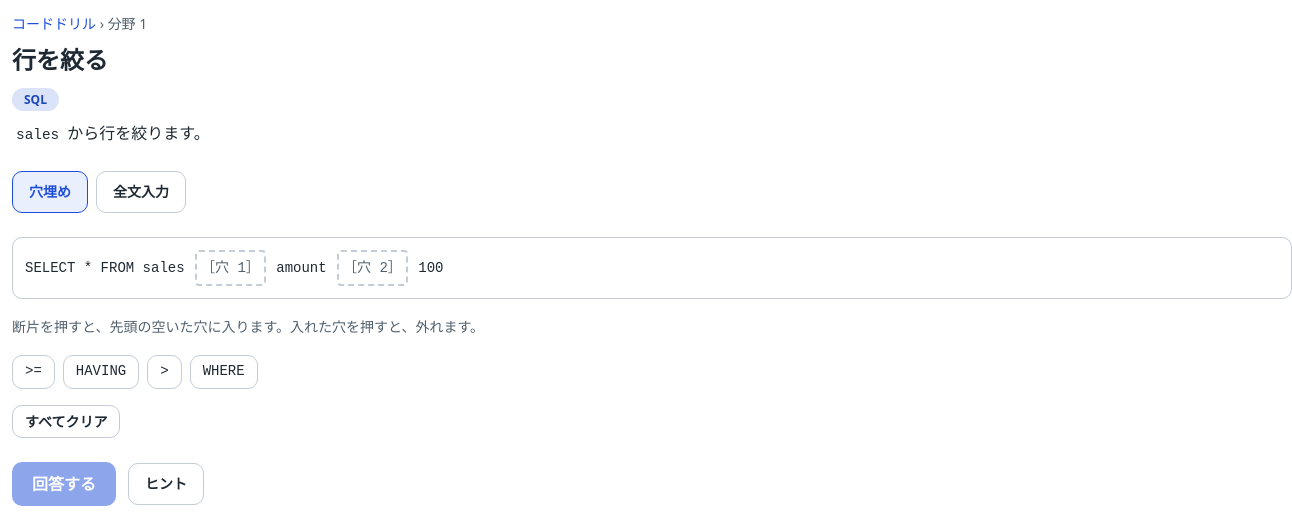
Test: CodeDrillPlayer(穴埋め) › 全部の穴が埋まるまで回答できず_断片は先頭の空いた穴から入る
Expected: the button "回答する" is disabled, [12,462,116,506]
Click the button "HAVING" at (101, 372), box [63,355,139,389]
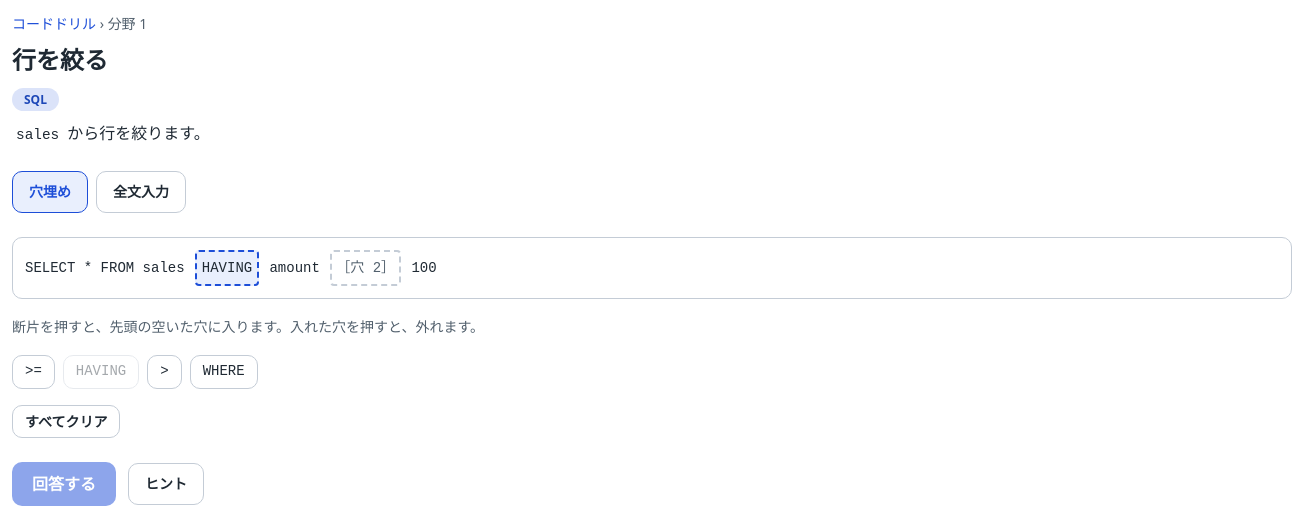
Expected: the button with aria-label "穴 1: HAVING" is shown, [195,250,259,286]
Expected: the 2nd button "HAVING" is disabled, [63,355,139,389]
Click the button ">" at (164, 372), box [147,355,182,389]
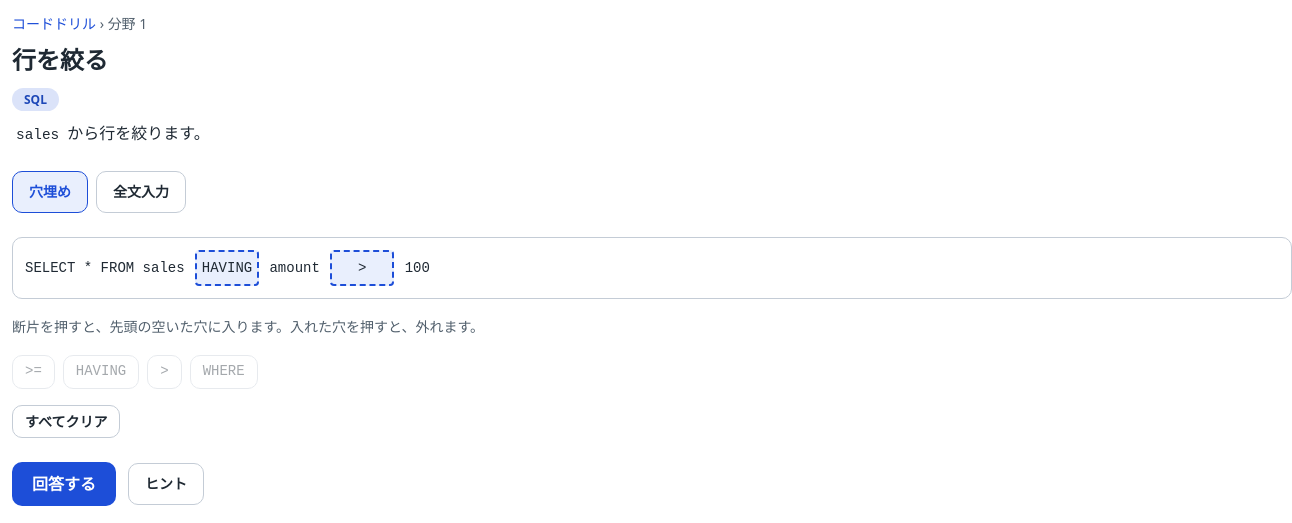
Expected: the button "回答する" is enabled, [12,462,116,506]
